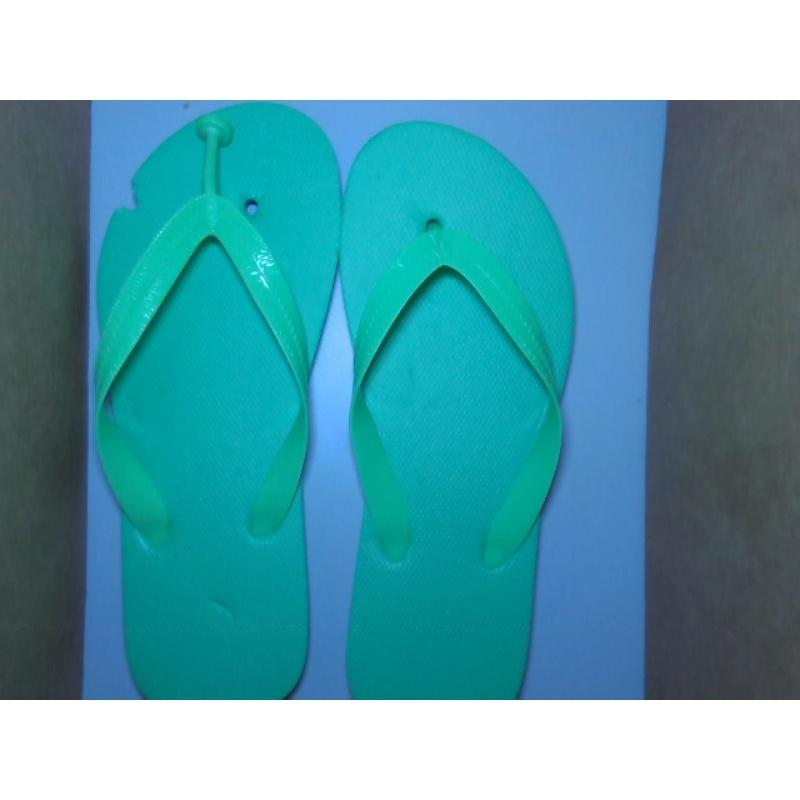chipped: (106, 170, 150, 230)
detached: (191, 108, 240, 164)
